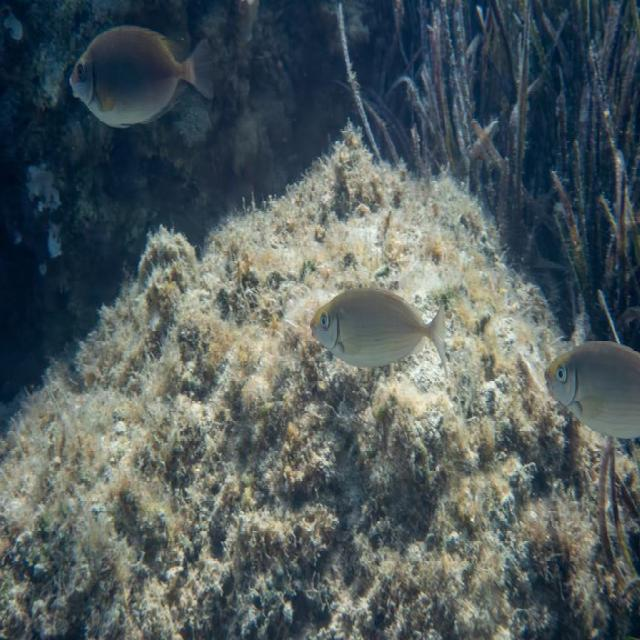Sokar Baligi: (297, 257, 457, 409), (60, 4, 228, 148)
